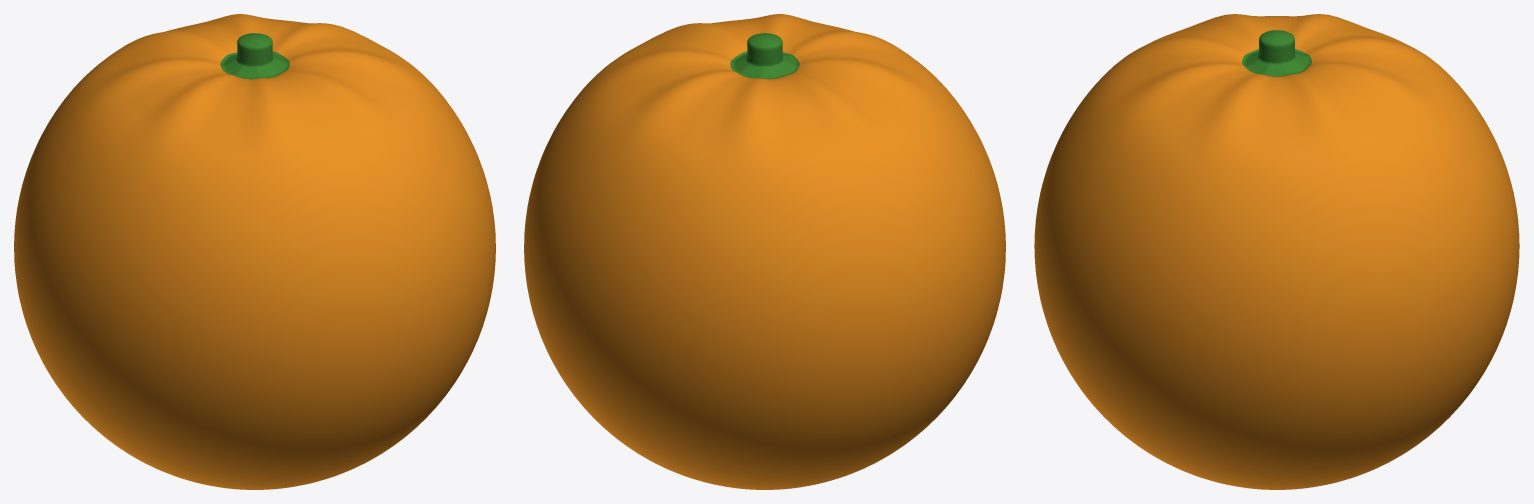
Rendered from PickupOrange.fbx.
3 views of the same model, side by side, from view 1: azimuth 30°, elevation 25°; view 2: azimuth 150°, elevation 25°; view 3: azimuth 270°, elevation 25° (orthographic).
Parts seen in each view (by area): view 1: Sphere; view 2: Sphere; view 3: Sphere.
Part boxes in pixels (<box>): Sphere: <box>14,14,495,489</box>; Sphere: <box>524,14,1005,489</box>; Sphere: <box>1034,14,1519,489</box>.
Size of the model in its own units: 99.48 by 98.43 by 99.48.
